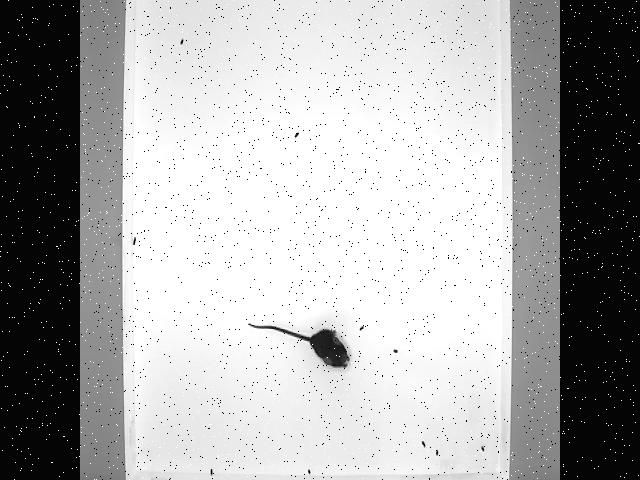Tikus: (246, 318, 352, 370)
